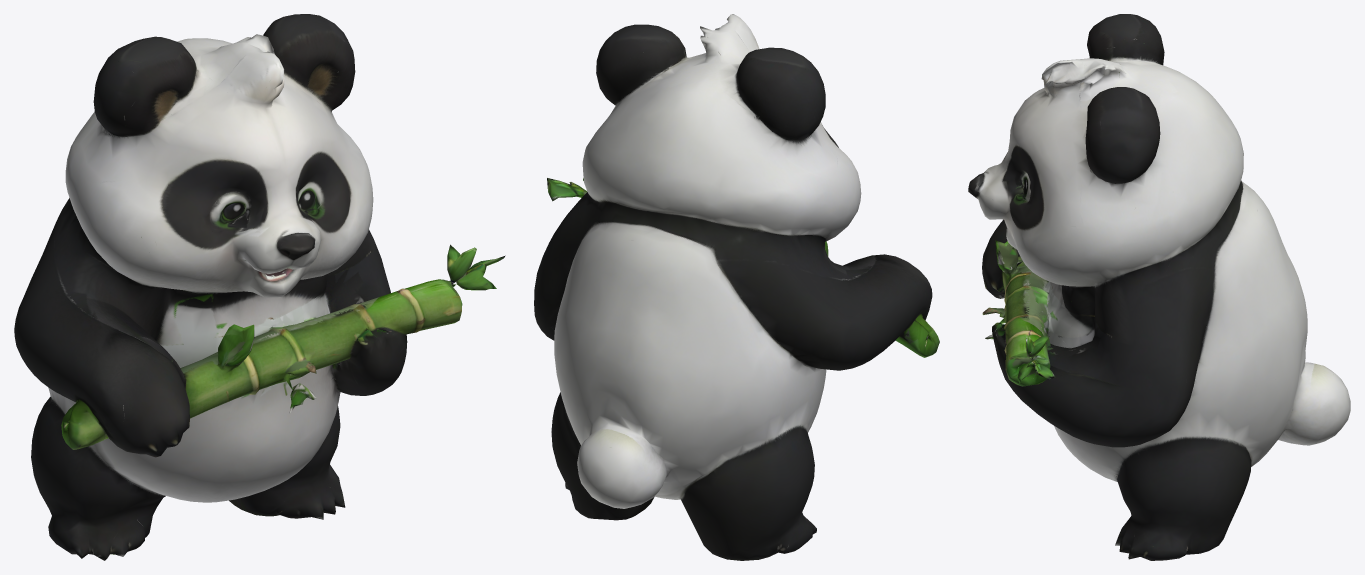
File: A_3D_model_of_panda_0814080255_texture.fbx
The picture shows the model from 3 angles, left to right: view 1: azimuth 30°, elevation 25°; view 2: azimuth 150°, elevation 25°; view 3: azimuth 270°, elevation 25°; orthographic projection. The views are drawn at different scales.
Parts seen in each view (by area): view 1: Mesh1.0; view 2: Mesh1.0; view 3: Mesh1.0.
Boxes of the visible parts, bbox=[...] form: Mesh1.0: bbox=[14, 14, 505, 560]; Mesh1.0: bbox=[534, 14, 939, 560]; Mesh1.0: bbox=[968, 14, 1350, 560].
Bounding box in the file's own units: 175 × 199 × 150.
Materials: 1 (1 with a texture image).
